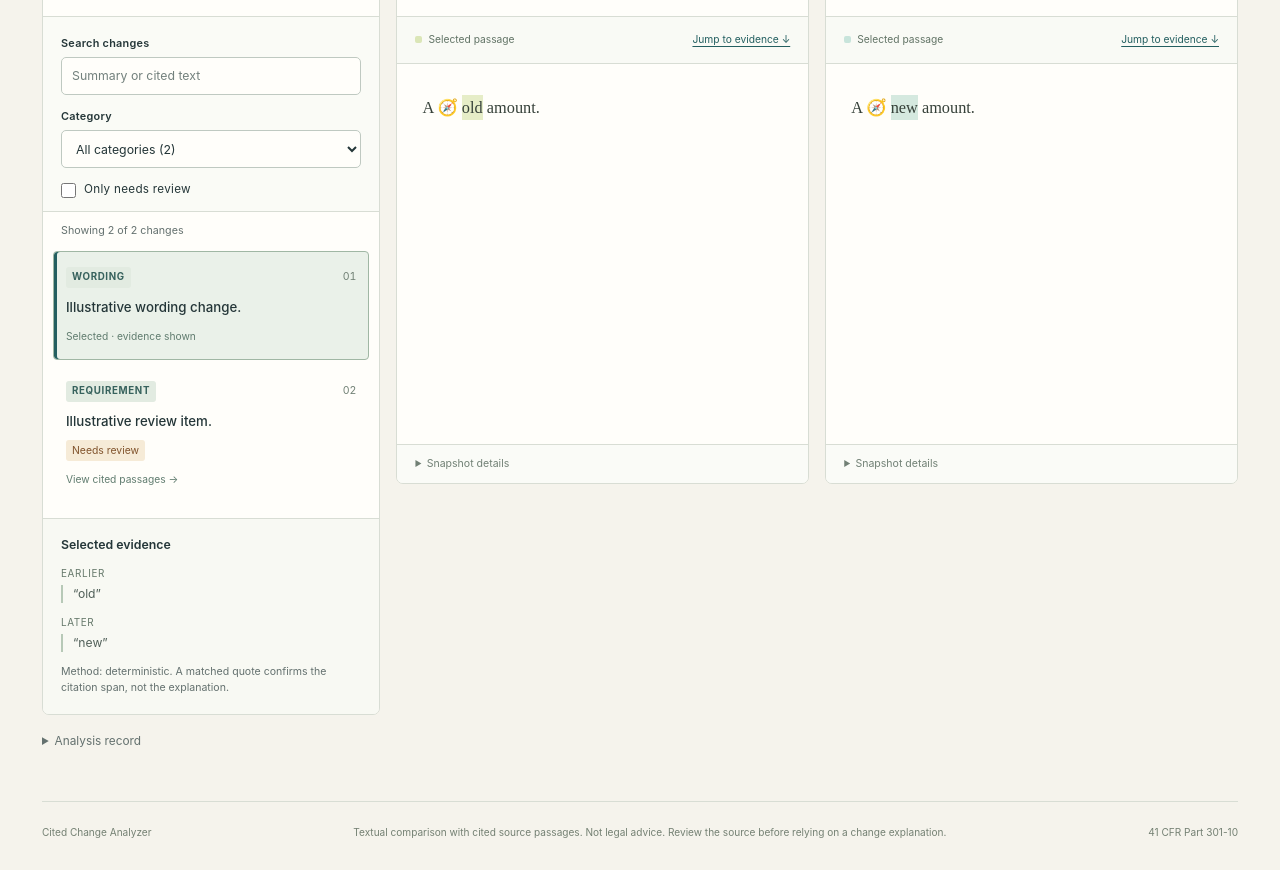
Test: archive review › loads only curated pairs and highlights the selected Unicode evidence
The width and height of the screenshot is (1280, 870).
(page scrolled)
Expected: the text "Illustrative wording change." is shown, 66,299 -> 241,315
Click the button "Illustrative review item". click: (111, 391)
box: 53,365 -> 370,504
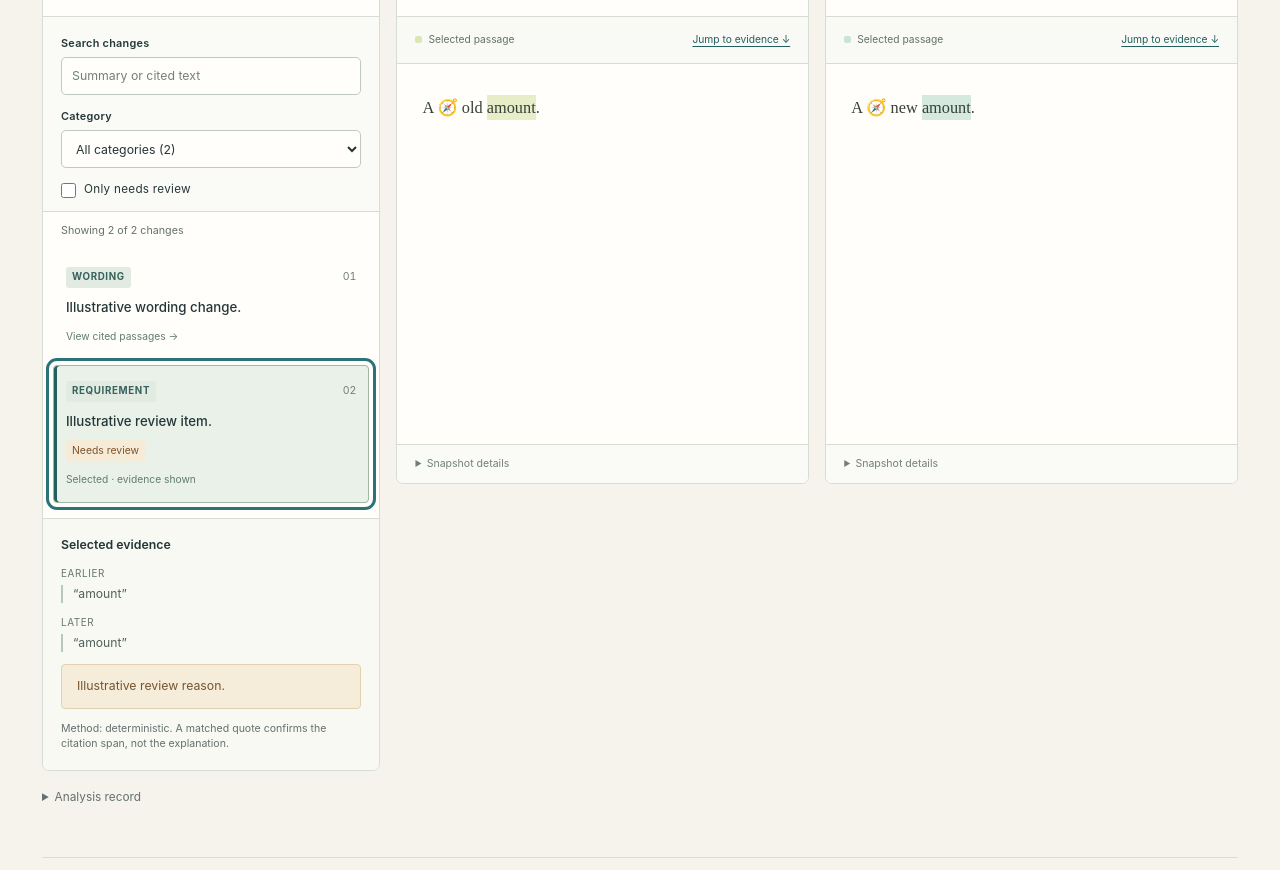
Expected: the button "Illustrative review item" is pressed, 53,365 -> 370,504
Type "no matching text" into the search field labelled "Search changes". click: (211, 76)
box: 61,57 -> 362,95
(page scrolled)
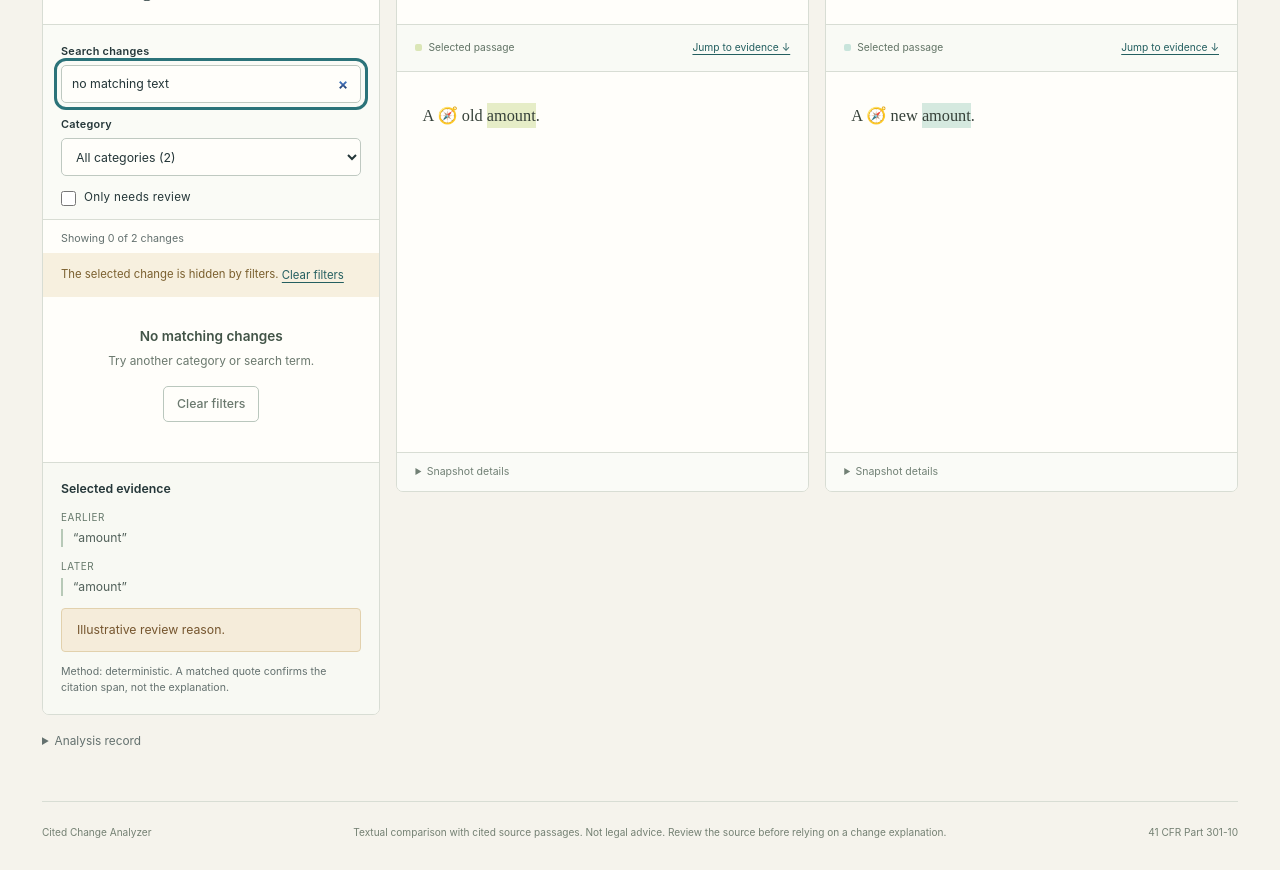
Expected: the heading "No matching changes" is shown, 140,328 -> 283,344
Click the 1st button "Clear filters". click: (313, 275)
box: 282,263 -> 344,287
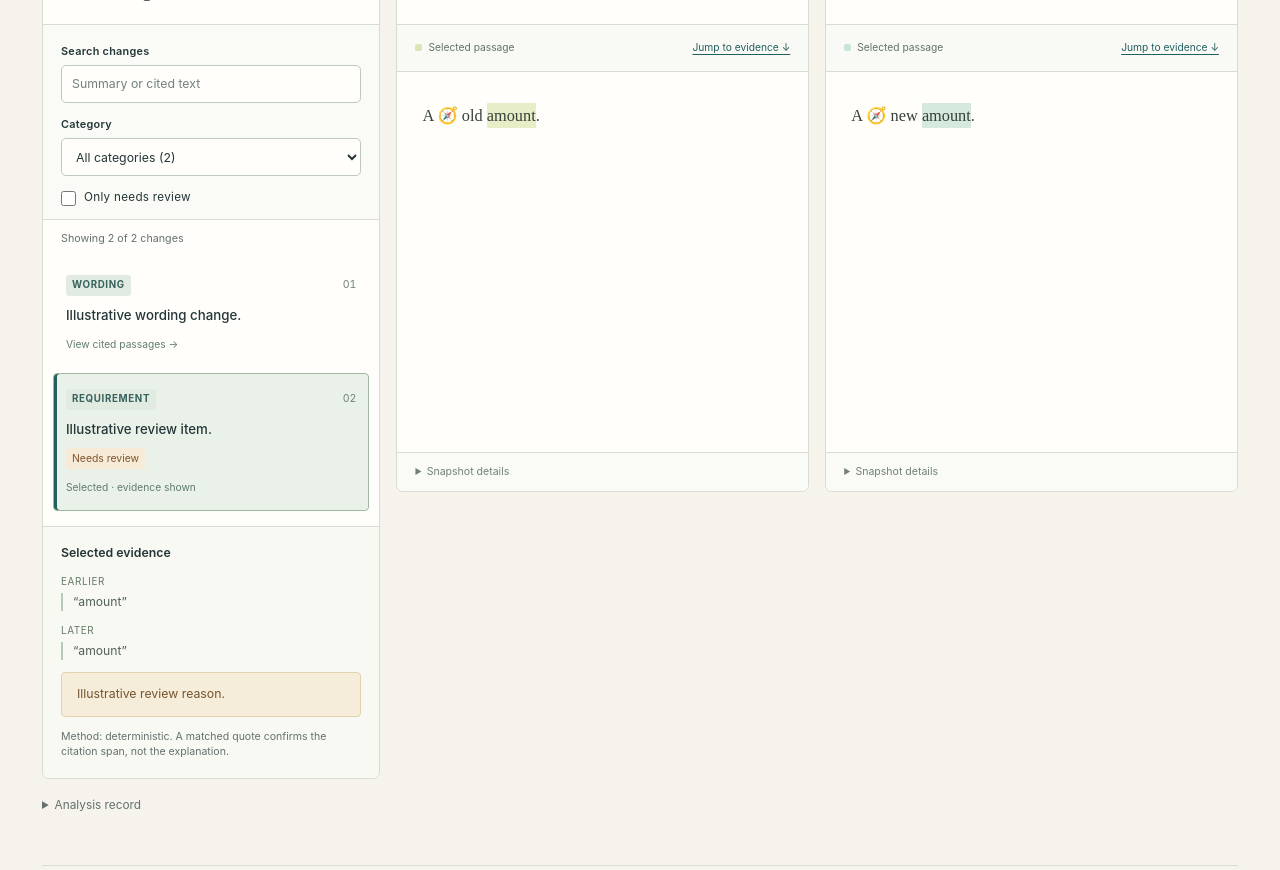
Expected: the button "Illustrative review item" is shown, 53,373 -> 370,512
Click the checkbox labelled "Only needs review". click: (68, 198)
box: 61,191 -> 76,206
(page scrolled)
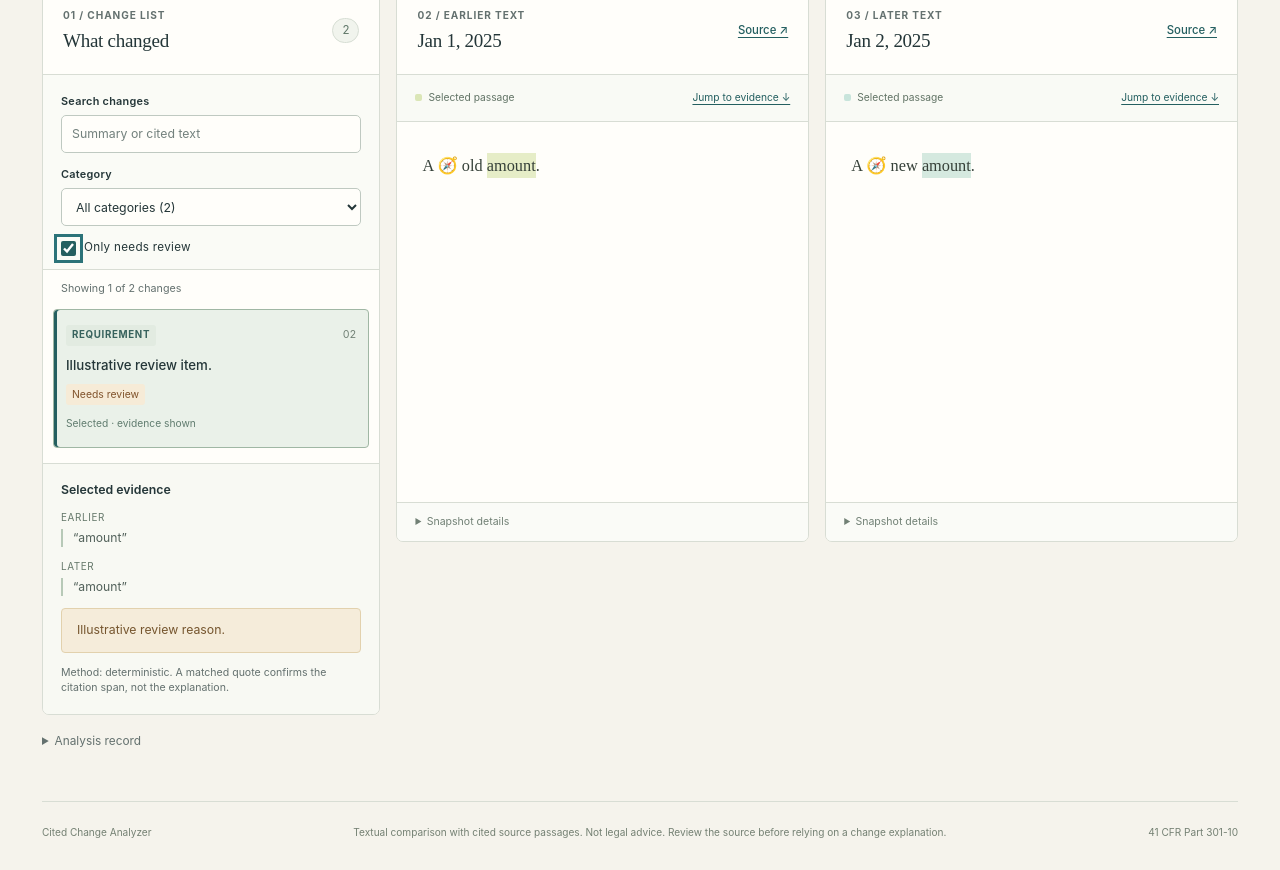
Expected: the button "Illustrative wording change" is gone
Expected: the text "Showing 1 of 2 changes" is shown, 61,282 -> 181,295
